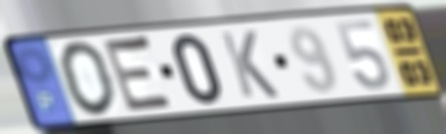0: (170, 32, 225, 107)
5: (331, 16, 392, 91)
9: (288, 24, 340, 95)
E: (100, 33, 179, 116)
K: (217, 29, 283, 101)
O: (57, 39, 119, 119)
